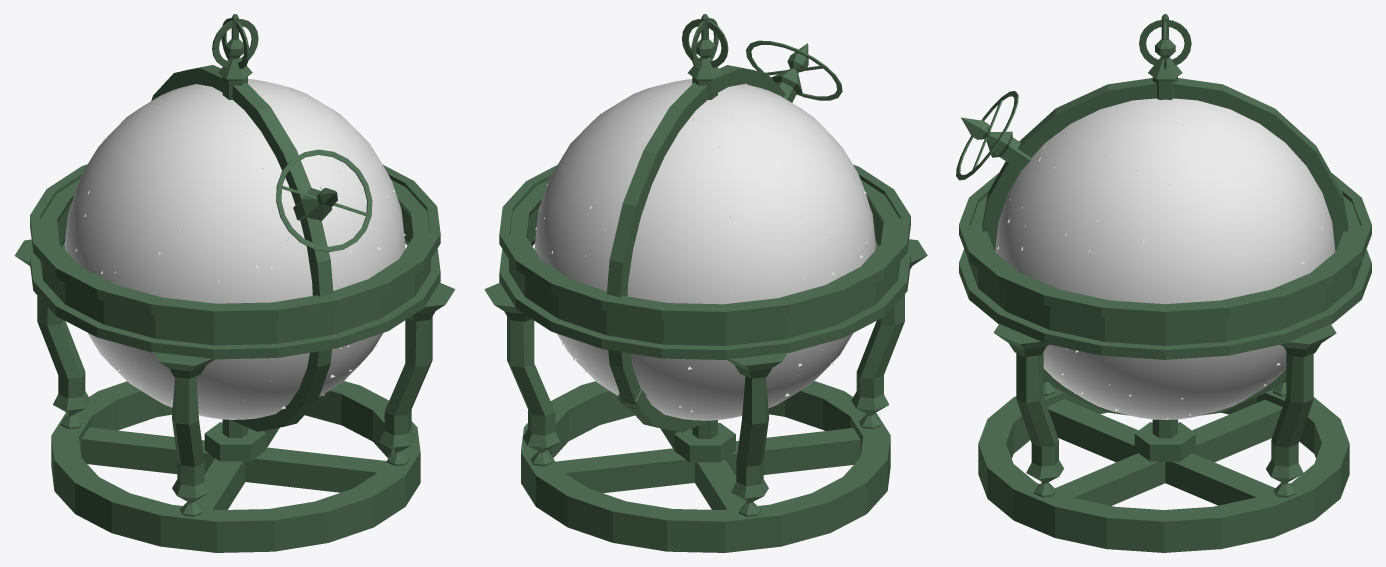
File: 天球仪三角形.fbx
3 renders of one model, left to right at view 1: azimuth 30°, elevation 25°; view 2: azimuth 150°, elevation 25°; view 3: azimuth 270°, elevation 25°, orthographic.
Visible parts, largest first — view 1: 星空三角.001, 柱体.037, 圆环.003, 立方体.011, 柱体.039, 脚脚.030, 脚脚.028, 脚脚.031, 柱体.038, 柱体.043, 柱体.042, 柱体.041; view 2: 星空三角.001, 柱体.037, 圆环.003, 立方体.011, 柱体.039, 脚脚.029, 脚脚.031, 脚脚.028, 柱体.038, 柱体.042, 柱体.043, 柱体.041; view 3: 星空三角.001, 柱体.037, 圆环.003, 立方体.011, 柱体.039, 脚脚.029, 脚脚.030, 柱体.038, 柱体.042, 柱体.043, 柱体.040.
Part boxes in pixels (x1=…): 星空三角.001: x1=64, y1=79, x2=405, y2=419; 柱体.037: x1=30, y1=164, x2=440, y2=359; 圆环.003: x1=51, y1=381, x2=420, y2=552; 立方体.011: x1=81, y1=427, x2=386, y2=509; 柱体.039: x1=151, y1=65, x2=333, y2=431; 脚脚.030: x1=379, y1=283, x2=455, y2=465; 脚脚.028: x1=152, y1=352, x2=214, y2=516; 脚脚.031: x1=14, y1=239, x2=90, y2=429; 柱体.038: x1=204, y1=14, x2=265, y2=461; 柱体.043: x1=276, y1=149, x2=372, y2=251; 柱体.042: x1=293, y1=188, x2=337, y2=220; 柱体.041: x1=212, y1=19, x2=258, y2=67; 星空三角.001: x1=534, y1=79, x2=875, y2=420; 柱体.037: x1=499, y1=164, x2=910, y2=359; 圆环.003: x1=521, y1=381, x2=890, y2=552; 立方体.011: x1=556, y1=428, x2=860, y2=509; 柱体.039: x1=607, y1=65, x2=785, y2=432; 脚脚.029: x1=484, y1=283, x2=560, y2=466; 脚脚.031: x1=727, y1=352, x2=787, y2=516; 脚脚.028: x1=851, y1=239, x2=927, y2=429; 柱体.038: x1=674, y1=14, x2=735, y2=462; 柱体.042: x1=617, y1=43, x2=808, y2=409; 柱体.043: x1=746, y1=40, x2=842, y2=100; 柱体.041: x1=682, y1=19, x2=728, y2=67; 星空三角.001: x1=995, y1=98, x2=1335, y2=419; 柱体.037: x1=959, y1=173, x2=1371, y2=359; 圆环.003: x1=978, y1=383, x2=1349, y2=552; 立方体.011: x1=1047, y1=399, x2=1282, y2=505; 柱体.039: x1=982, y1=78, x2=1348, y2=415; 脚脚.029: x1=1266, y1=324, x2=1336, y2=497; 脚脚.030: x1=993, y1=324, x2=1063, y2=497; 柱体.038: x1=1134, y1=14, x2=1195, y2=461; 柱体.042: x1=961, y1=117, x2=1314, y2=353; 柱体.043: x1=956, y1=91, x2=1018, y2=180; 柱体.040: x1=1139, y1=20, x2=1191, y2=65.
Bounding box in the file's own units: 2060 × 2530 × 2074.
